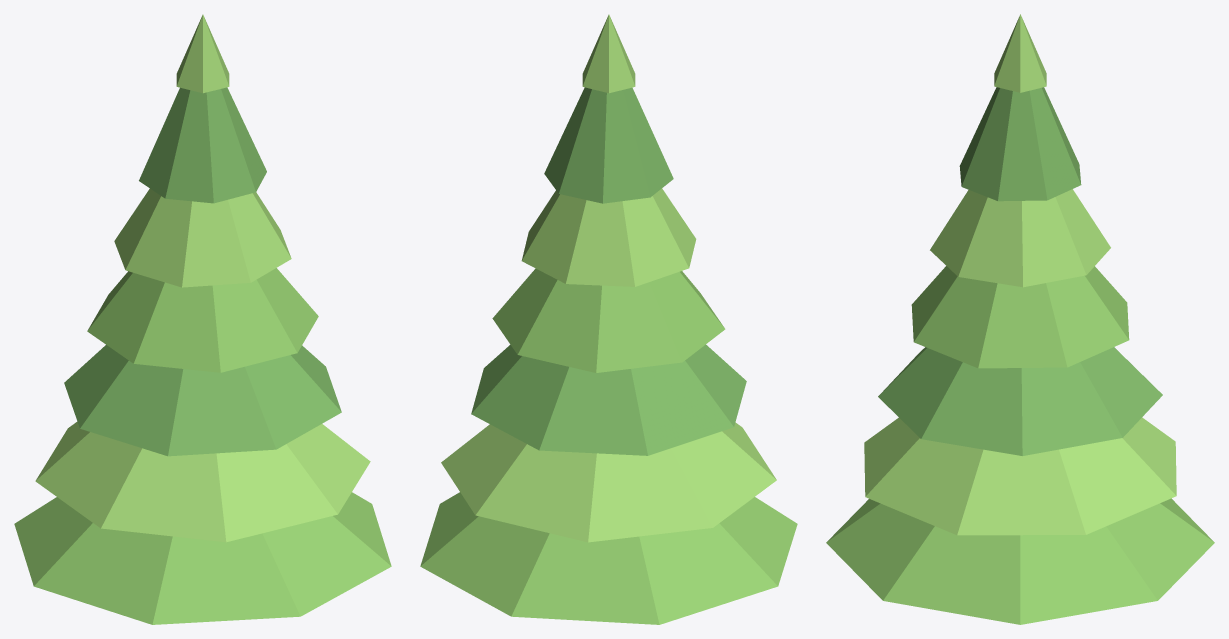
The model's file is pine-tiered-2.glb.
3 views of the same model, side by side, from view 1: azimuth 30°, elevation 25°; view 2: azimuth 150°, elevation 25°; view 3: azimuth 270°, elevation 25° (orthographic).
Visible parts, largest first — view 1: pine-tiered-2-leaf1, pine-tiered-2-leaf2, pine-tiered-2-leaf3; view 2: pine-tiered-2-leaf1, pine-tiered-2-leaf2, pine-tiered-2-leaf3; view 3: pine-tiered-2-leaf1, pine-tiered-2-leaf2, pine-tiered-2-leaf3.
Boxes of the visible parts, x1,y1,x2,y2 form: pine-tiered-2-leaf1: (14, 268, 391, 624); pine-tiered-2-leaf2: (35, 14, 370, 542); pine-tiered-2-leaf3: (64, 87, 341, 456); pine-tiered-2-leaf1: (420, 268, 797, 624); pine-tiered-2-leaf2: (441, 14, 776, 542); pine-tiered-2-leaf3: (471, 87, 746, 455); pine-tiered-2-leaf1: (826, 266, 1214, 624); pine-tiered-2-leaf2: (864, 14, 1176, 535); pine-tiered-2-leaf3: (878, 87, 1162, 455).
Bounding box in the file's own units: 3.2 × 5.4 × 3.2.
